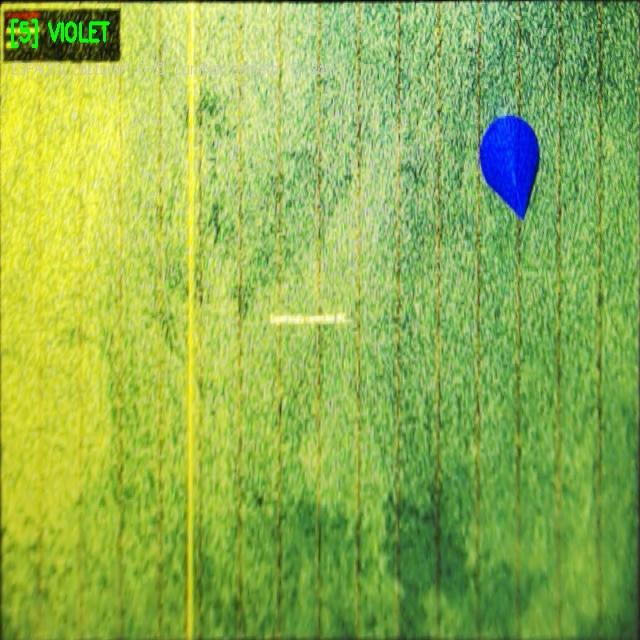violet: (480, 116, 538, 219)
